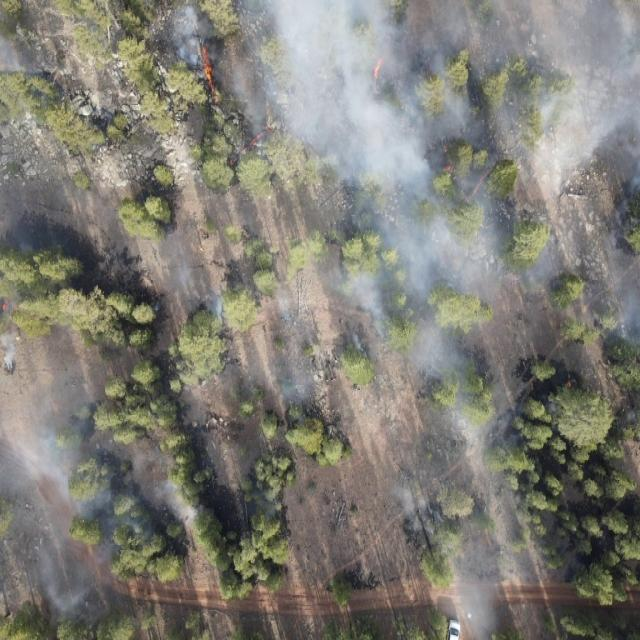fire: (226, 126, 272, 169), (196, 32, 220, 110), (467, 168, 491, 203), (439, 144, 457, 174), (372, 51, 388, 84), (0, 296, 13, 316), (563, 380, 573, 392)
smoke: (226, 0, 640, 161), (310, 162, 640, 344), (388, 341, 532, 640), (0, 408, 199, 624), (272, 295, 327, 424), (162, 239, 226, 327), (164, 0, 221, 82), (0, 25, 41, 111), (0, 284, 26, 376), (538, 393, 562, 418)
